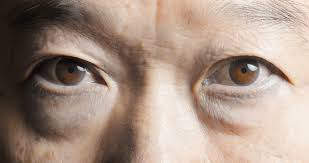e.brown: (230, 57, 260, 88)
